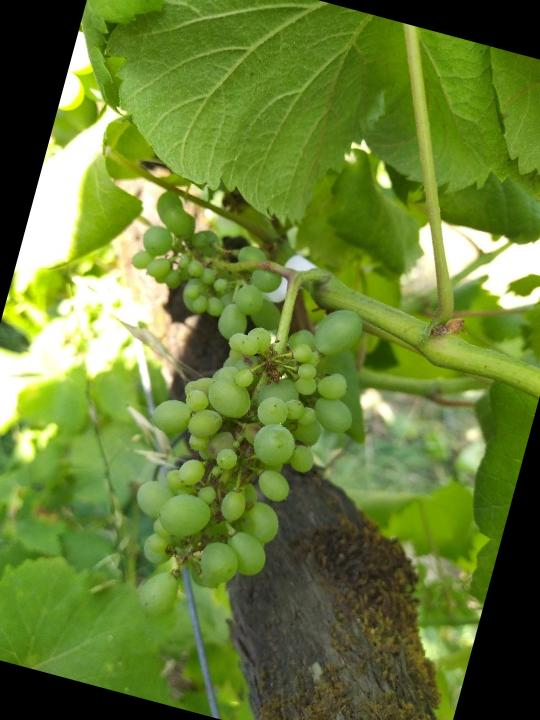grape: (40, 181, 407, 662)
